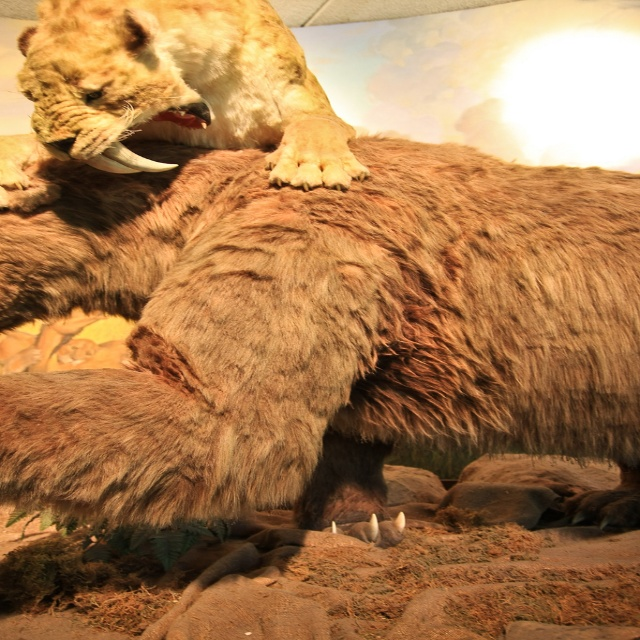Lion: (16, 0, 367, 190)
